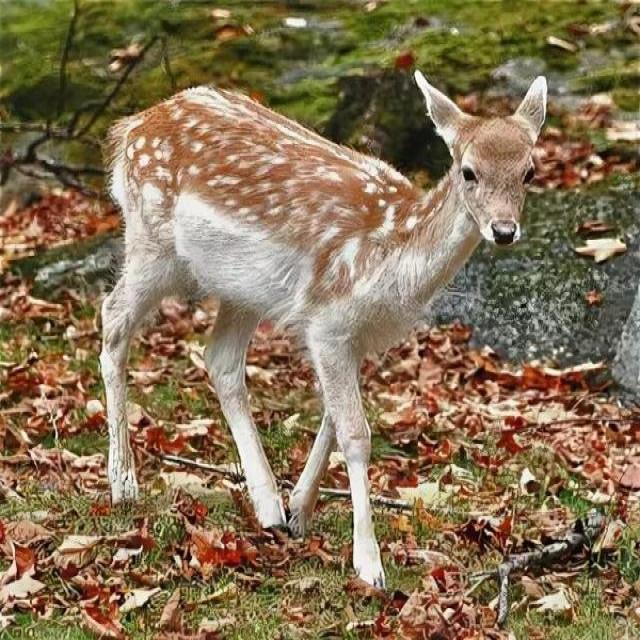deer: (86, 27, 598, 545)
